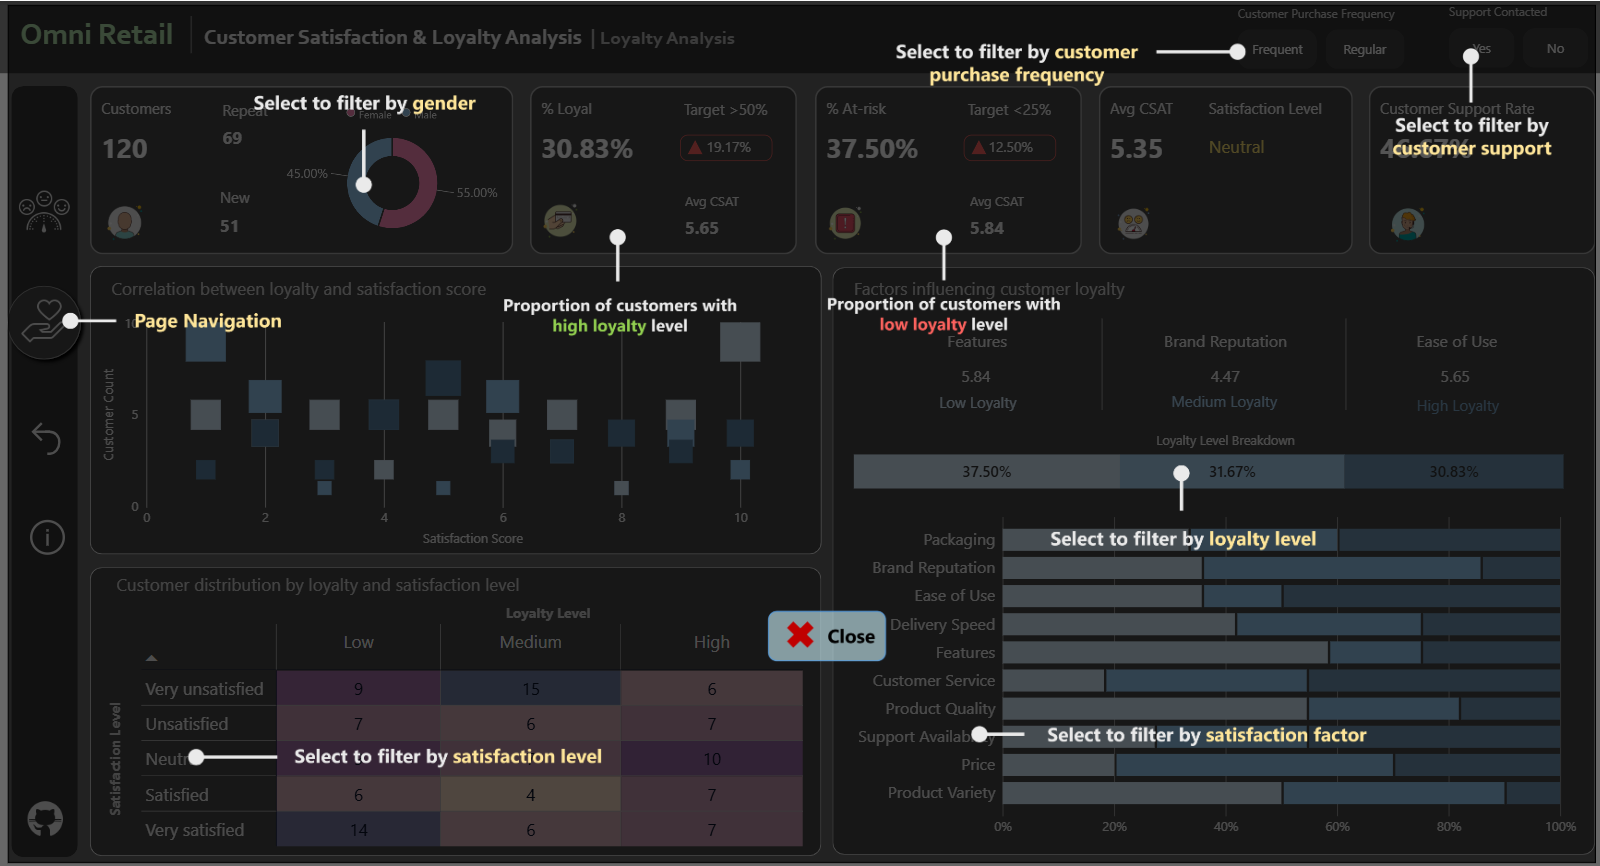

Layout of this report page (visuals, bound fields, positions):
{"tool":"powerbi","page":{"name":"CSAT Analysis","canvas":[1920,1080],"ordinal":0},"visuals":[{"type":"shape","title":"Header","box":[0,0,1920,90],"z":0},{"type":"cardVisual","fields":{"Data":["_KPIs.avg_statisfaction_score"]},"box":[1278.4,105.7,317.9,210],"z":0,"group":"g7"},{"type":"cardVisual","title":"Customer Support Rate ","fields":{"Data":["_KPIs.customer_support_rate"]},"box":[1614.6,105.7,283.6,210],"z":0,"group":"g13"},{"type":"cardVisual","fields":{"Data":["_KPIs.customer_count"]},"box":[20.3,105.8,528.3,210],"z":0,"group":"g1"},{"type":"cardVisual","fields":{"Data":["_KPIs.at-risk %"]},"box":[923.3,105.9,333.3,210],"z":0,"group":"g6"},{"type":"cardVisual","fields":{"Data":["_KPIs.loyal %"]},"box":[568.6,106.2,333.3,210],"z":0,"group":"g3"},{"type":"textbox","box":[1108.1,117.6,125,45],"z":0,"group":"g2"},{"type":"textbox","box":[755.6,117.9,125,45],"z":0,"group":"g4"},{"type":"shape","box":[945.9,332.7,952.5,361.7],"z":0,"group":"g10"},{"type":"shape","box":[20.4,333.6,910.3,360.1],"z":0,"group":"g9"},{"type":"cardVisual","fields":{"Data":["Min(Customer Satisfaction.Satisfaction_Factor)"]},"box":[963.5,535,175.2,69.5],"z":0,"group":"g8"},{"type":"shape","box":[1117.5,564.1,43.4,114.8],"z":0,"group":"g5"},{"type":"shape","box":[20,706.7,910,360],"z":0,"group":"g11"},{"type":"shape","box":[946.7,706.7,951.7,360],"z":0,"group":"g12"},{"type":"textbox","title":"Omni Retail","box":[20,13.3,276.7,65],"z":1000},{"type":"cardVisual","fields":{"Data":["_KPIs.Avg_Satisfaction_Level"]},"box":[1415.1,105.7,180,103.3],"z":1000,"group":"g7"},{"type":"card","fields":{"Values":["_KPIs.at-risk target display"]},"box":[1108.1,166.8,115.5,32.7],"z":1000,"group":"g2"},{"type":"card","fields":{"Values":["_KPIs.loyalty target display"]},"box":[755.6,168.5,115.5,32.7],"z":1000,"group":"g4"},{"type":"cardVisual","fields":{"Data":["_KPIs.new_cust_count"]},"box":[165.1,212.5,120,98.3],"z":1000,"group":"g1"},{"type":"cardVisual","fields":{"Data":["_KPIs.at-risk_avg_csat"]},"box":[1099.5,222,116.7,88.3],"z":1000,"group":"g6"},{"type":"cardVisual","fields":{"Data":["_KPIs.loyal_avg_satisfaction"]},"box":[745.1,222.3,116.7,88.3],"z":1000,"group":"g3"},{"type":"image","box":[1622,246.2,80,63.3],"z":1000,"group":"g13"},{"type":"ZoomChartsPieChartPaidE77E4ED357DC402ABA005987437CF500","fields":{"Values":["_KPIs.customer_count"],"Category":["Customer Category.Customer Category"],"tooltipContent":["All Measures.avg_statisfaction_score"]},"box":[20.3,355,576.8,320.5],"z":1000,"group":"g9"},{"type":"hundredPercentStackedBarChart","fields":{"Y":["_KPIs.customer_count"],"Series":["satisfaction_order.satisfaction_level"]},"box":[977.1,410.6,894.8,191.7],"z":1000,"group":"g10"},{"type":"cardVisual","fields":{"Data":["Min(Customer Satisfaction.Satisfaction_Factor)"]},"box":[1143.7,535,203.5,69.5],"z":1000,"group":"g8"},{"type":"shape","box":[1326,564.1,41.7,114.8],"z":1000,"group":"g5"},{"type":"ZoomChartsFacetChartPaidE77E4ED357DC402ABA005987437CF500","fields":{"Values1":["_KPIs.customer_count"],"Category":["Customer Satisfaction.Age (bins)","Loyalty Level.Loyalty level"],"Values2":["_KPIs.avg_statisfaction_score"],"tooltipContent":["_KPIs.avg_statisfaction_score"]},"box":[18.3,755.6,905,306.7],"z":1000,"group":"g11"},{"type":"ZoomChartsFacetChartPaidE77E4ED357DC402ABA005987437CF500","fields":{"Values1":["_KPIs.customer_count"],"Category":["Location.State"],"Values2":["_KPIs.avg_statisfaction_score"],"Legend":["Loyalty Level.Loyalty level"],"tooltipContent":["_KPIs.avg_statisfaction_score"]},"box":[961.7,765,931.7,298.3],"z":1000,"group":"g12"},{"type":"group","id":"g1","title":"Customer","box":[20.3,105.5,528.3,210.3],"z":2000},{"type":"cardVisual","fields":{"Data":["_KPIs.repeat_cust_count"]},"box":[168.6,105.5,116.4,89.1],"z":2000,"group":"g1"},{"type":"group","id":"g2","title":"Target group","box":[1108.1,117.6,125,81.9],"z":2000,"group":"g6"},{"type":"shape","box":[764.7,173.9,19.1,18.2],"z":2000,"group":"g4"},{"type":"shape","box":[1117.2,174.1,19.1,18.2],"z":2000,"group":"g2"},{"type":"image","box":[575.3,237.9,63.3,75],"z":2000,"group":"g3"},{"type":"image","box":[1285.7,248.4,71.2,60],"z":2000,"group":"g7"},{"type":"textbox","box":[1284.4,447,279,39],"z":2000,"group":"g10"},{"type":"cardVisual","fields":{"Data":["Min(Customer Satisfaction.Satisfaction_Factor)"]},"box":[1356.9,535,176,71],"z":2000,"group":"g8"},{"type":"shape","box":[1516.2,564.1,41.7,114.8],"z":2000,"group":"g5"},{"type":"textbox","box":[976.7,710,620,65],"z":2000,"group":"g12"},{"type":"textbox","box":[32,710.4,606.7,65],"z":2000,"group":"g11"},{"type":"group","id":"g3","title":"Loyal %","box":[568.6,106.2,333.3,210],"z":3000},{"type":"group","id":"g4","title":"Target group","box":[755.6,117.9,125,83.3],"z":3000,"group":"g3"},{"type":"image","box":[32,237.9,65,76.7],"z":3000,"group":"g1"},{"type":"image","box":[930.3,246.2,63.3,61.7],"z":3000,"group":"g6"},{"type":"textbox","box":[42.6,343,368.4,56.9],"z":3000,"group":"g9"},{"type":"cardVisual","fields":{"Data":["Min(Customer Satisfaction.Satisfaction_Factor)"]},"box":[1542.3,535,173.5,69.5],"z":3000,"group":"g8"},{"type":"group","id":"g5","title":"Vertical Lines","box":[1117.5,564.1,618.9,117.8],"z":3000,"group":"g10"},{"type":"shape","box":[1694.7,567.1,41.7,114.8],"z":3000,"group":"g5"},{"type":"group","id":"g6","title":"At-risk","box":[923.3,105.9,333.3,210],"z":4000},{"type":"ZoomChartsPieChartPaidE77E4ED357DC402ABA005987437CF500","fields":{"Values":["_KPIs.customer_count"],"Category":["Customer Demographics.Gender"]},"box":[257,122.9,280,180],"z":4000,"group":"g1"},{"type":"textbox","box":[969.6,338.9,585.5,67.8],"z":4000,"group":"g10"},{"type":"cardVisual","fields":{"Data":["Min(Customer Satisfaction.Satisfaction_Factor)"]},"box":[1728,535,165.3,65.4],"z":4000,"group":"g8"},{"type":"ZoomChartsDrillDownComboBarProE77E4ED357DC402ABA005987437CF8","fields":{"Values1":["_KPIs.NPS"]},"box":[113.3,603,373.4,87],"z":4000,"group":"g9"},{"type":"group","id":"g7","title":"Avg CSAT","box":[1278.4,105.7,317.9,210],"z":5000},{"type":"group","id":"g8","title":"Satisfaction Factor","box":[963.5,535,932.5,158.8],"z":5000,"group":"g10"},{"type":"card","fields":{"Values":["_KPIs.NPS"]},"box":[237,550,135,70.6],"z":5000,"group":"g9"},{"type":"cardVisual","fields":{"Data":["_KPIs.avg_statisfaction_score"]},"box":[1729.2,583,166.8,64.3],"z":5000,"group":"g8"},{"type":"image","box":[622,438,280.6,227.6],"z":5500,"group":"g9"},{"type":"group","id":"g9","title":"NPS","box":[20.3,333.6,910.4,360.1],"z":6000},{"type":"textbox","box":[963.5,648.6,176.8,45.2],"z":6000,"group":"g8"},{"type":"group","id":"g10","title":"Satisfaction group","box":[945.9,332.7,952.5,361.7],"z":7000},{"type":"textbox","box":[1143.7,648.6,203.5,45.2],"z":7000,"group":"g8"},{"type":"shape","title":"Grey divider","box":[245,21.7,43.3,46.7],"z":8000},{"type":"textbox","box":[1352.2,648.6,181.8,45.2],"z":8000,"group":"g8"},{"type":"textbox","title":"Report Title","box":[283.3,21.7,825,56.7],"z":9000},{"type":"textbox","box":[1542.3,648.6,173.5,45.2],"z":9000,"group":"g8"},{"type":"actionButton","title":"Info","box":[1835,23.3,65,50],"z":10000},{"type":"textbox","box":[1729.2,648.6,166.8,45.2],"z":10000,"group":"g8"},{"type":"actionButton","title":"Reset","box":[1756.7,23.3,63.3,46.7],"z":11000},{"type":"cardVisual","fields":{"Data":["_KPIs.avg_statisfaction_score"]},"box":[1540.7,583,175.2,64.3],"z":11000,"group":"g8"},{"type":"advancedSlicerVisual","title":"Customer Purchase Frequency","fields":{"Values":["Customer Satisfaction.Purchase_Frequency"]},"box":[1140.1,4.9,282.2,78.3],"z":12000},{"type":"cardVisual","fields":{"Data":["_KPIs.avg_statisfaction_score"]},"box":[1350.5,583,185.2,64.3],"z":12000,"group":"g8"},{"type":"cardVisual","fields":{"Data":["_KPIs.avg_statisfaction_score"]},"box":[1143.7,583,201.8,64.3],"z":13000,"group":"g8"},{"type":"group","id":"g11","title":"Avg CSAT-Age Groups","box":[18.3,706.7,911.7,360],"z":13000},{"type":"cardVisual","fields":{"Data":["_KPIs.avg_statisfaction_score"]},"box":[963.5,583,175.2,64.3],"z":14000,"group":"g8"},{"type":"group","id":"g12","title":"Loyalty-State","box":[946.7,706.7,951.7,360],"z":14000},{"type":"group","id":"g13","title":"Customer Support Rate","box":[1614.6,105.7,283.6,210],"z":15000},{"type":"advancedSlicerVisual","title":"Support Contacted","fields":{"Values":["Customer Satisfaction.Support_Contacted"]},"box":[1446.7,5,280,78.3],"z":15500},{"type":"ZoomChartsDrillDownComboBarProE77E4ED357DC402ABA005987437CF8","title":"CSAT Scale 2","fields":{"Values1":["Count(Customer Satisfaction.Satisfaction_Score)"],"Legend":["satisfaction_order.satisfaction_level"]},"box":[1563.6,332,335.2,106],"z":16000},{"type":"ZoomChartsDrillDownComboBarProE77E4ED357DC402ABA005987437CF8","title":"CSAT Scale 1","fields":{"Values1":["Count(Customer Satisfaction.Satisfaction_Score)"],"Legend":["Customer Category.Customer Category"]},"box":[606.4,333.6,324.3,104.4],"z":17000}]}

Visuals, with their boxes on the page's 1920x1080 design canvas (x1, y1, x2, y2). These are canvas units, not pixel positions in the 1600x866 screenshot, which may show the page scaled, cropped or inside an application window:
"Header" shape: detection(0, 0, 1920, 90)
cardVisual - _KPIs.avg_statisfaction_score: detection(1278, 106, 1596, 316)
"Customer Support Rate " cardVisual: detection(1615, 106, 1898, 316)
cardVisual - _KPIs.customer_count: detection(20, 106, 549, 316)
cardVisual - _KPIs.at-risk %: detection(923, 106, 1257, 316)
cardVisual - _KPIs.loyal %: detection(569, 106, 902, 316)
textbox: detection(1108, 118, 1233, 163)
textbox: detection(756, 118, 881, 163)
shape: detection(946, 333, 1898, 694)
shape: detection(20, 334, 931, 694)
cardVisual - Min(Customer Satisfaction.Satisfaction_Factor): detection(964, 535, 1139, 604)
shape: detection(1118, 564, 1161, 679)
shape: detection(20, 707, 930, 1067)
shape: detection(947, 707, 1898, 1067)
"Omni Retail" textbox: detection(20, 13, 297, 78)
cardVisual - _KPIs.Avg_Satisfaction_Level: detection(1415, 106, 1595, 209)
card - _KPIs.at-risk target display: detection(1108, 167, 1224, 200)
card - _KPIs.loyalty target display: detection(756, 168, 871, 201)
cardVisual - _KPIs.new_cust_count: detection(165, 212, 285, 311)
cardVisual - _KPIs.at-risk_avg_csat: detection(1100, 222, 1216, 310)
cardVisual - _KPIs.loyal_avg_satisfaction: detection(745, 222, 862, 311)
image: detection(1622, 246, 1702, 310)
ZoomChartsPieChartPaidE77E4ED357DC402ABA005987437CF500 - _KPIs.customer_count x Customer Category.Customer Category: detection(20, 355, 597, 676)
hundredPercentStackedBarChart - _KPIs.customer_count x satisfaction_order.satisfaction_level: detection(977, 411, 1872, 602)
cardVisual - Min(Customer Satisfaction.Satisfaction_Factor): detection(1144, 535, 1347, 604)
shape: detection(1326, 564, 1368, 679)
ZoomChartsFacetChartPaidE77E4ED357DC402ABA005987437CF500 - _KPIs.customer_count x Customer Satisfaction.Age (bins): detection(18, 756, 923, 1062)
ZoomChartsFacetChartPaidE77E4ED357DC402ABA005987437CF500 - _KPIs.customer_count x Location.State: detection(962, 765, 1893, 1063)
"Customer" group: detection(20, 106, 549, 316)
cardVisual - _KPIs.repeat_cust_count: detection(169, 106, 285, 195)
"Target group" group: detection(1108, 118, 1233, 200)
shape: detection(765, 174, 784, 192)
shape: detection(1117, 174, 1136, 192)
image: detection(575, 238, 639, 313)
image: detection(1286, 248, 1357, 308)
textbox: detection(1284, 447, 1563, 486)
cardVisual - Min(Customer Satisfaction.Satisfaction_Factor): detection(1357, 535, 1533, 606)
shape: detection(1516, 564, 1558, 679)
textbox: detection(977, 710, 1597, 775)
textbox: detection(32, 710, 639, 775)
"Loyal %" group: detection(569, 106, 902, 316)
"Target group" group: detection(756, 118, 881, 201)
image: detection(32, 238, 97, 315)
image: detection(930, 246, 994, 308)
textbox: detection(43, 343, 411, 400)
cardVisual - Min(Customer Satisfaction.Satisfaction_Factor): detection(1542, 535, 1716, 604)
"Vertical Lines" group: detection(1118, 564, 1736, 682)
shape: detection(1695, 567, 1736, 682)
"At-risk" group: detection(923, 106, 1257, 316)
ZoomChartsPieChartPaidE77E4ED357DC402ABA005987437CF500 - _KPIs.customer_count x Customer Demographics.Gender: detection(257, 123, 537, 303)
textbox: detection(970, 339, 1555, 407)
cardVisual - Min(Customer Satisfaction.Satisfaction_Factor): detection(1728, 535, 1893, 600)
ZoomChartsDrillDownComboBarProE77E4ED357DC402ABA005987437CF8 - _KPIs.NPS: detection(113, 603, 487, 690)
"Avg CSAT" group: detection(1278, 106, 1596, 316)
"Satisfaction Factor" group: detection(964, 535, 1896, 694)
card - _KPIs.NPS: detection(237, 550, 372, 621)
cardVisual - _KPIs.avg_statisfaction_score: detection(1729, 583, 1896, 647)
image: detection(622, 438, 903, 666)
"NPS" group: detection(20, 334, 931, 694)
textbox: detection(964, 649, 1140, 694)
"Satisfaction group" group: detection(946, 333, 1898, 694)
textbox: detection(1144, 649, 1347, 694)
"Grey divider" shape: detection(245, 22, 288, 68)
textbox: detection(1352, 649, 1534, 694)
"Report Title" textbox: detection(283, 22, 1108, 78)
textbox: detection(1542, 649, 1716, 694)
"Info" actionButton: detection(1835, 23, 1900, 73)
textbox: detection(1729, 649, 1896, 694)
"Reset" actionButton: detection(1757, 23, 1820, 70)
cardVisual - _KPIs.avg_statisfaction_score: detection(1541, 583, 1716, 647)
"Customer Purchase Frequency" advancedSlicerVisual: detection(1140, 5, 1422, 83)
cardVisual - _KPIs.avg_statisfaction_score: detection(1350, 583, 1536, 647)
cardVisual - _KPIs.avg_statisfaction_score: detection(1144, 583, 1346, 647)
"Avg CSAT-Age Groups" group: detection(18, 707, 930, 1067)
cardVisual - _KPIs.avg_statisfaction_score: detection(964, 583, 1139, 647)
"Loyalty-State" group: detection(947, 707, 1898, 1067)
"Customer Support Rate" group: detection(1615, 106, 1898, 316)
"Support Contacted" advancedSlicerVisual: detection(1447, 5, 1727, 83)
"CSAT Scale 2" ZoomChartsDrillDownComboBarProE77E4ED357DC402ABA005987437CF8: detection(1564, 332, 1899, 438)
"CSAT Scale 1" ZoomChartsDrillDownComboBarProE77E4ED357DC402ABA005987437CF8: detection(606, 334, 931, 438)
